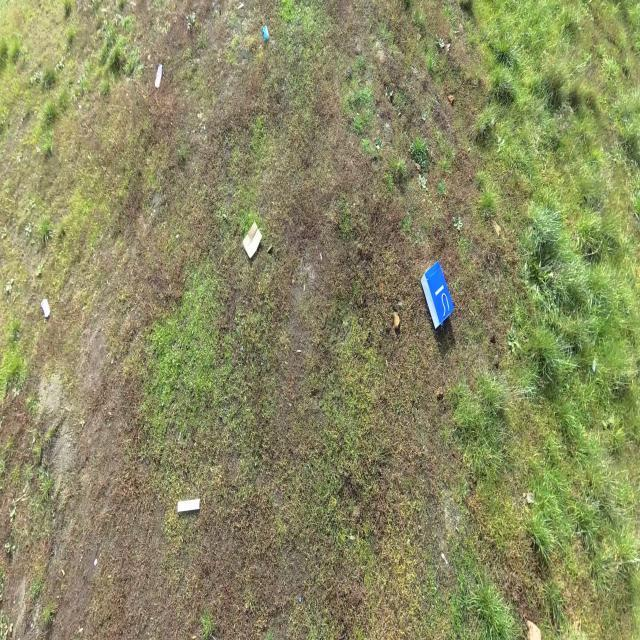rubbish: (420, 259, 455, 330), (241, 219, 263, 259), (525, 619, 541, 640), (177, 498, 200, 511), (40, 298, 52, 318), (154, 64, 163, 90), (261, 25, 271, 42), (93, 557, 97, 567), (441, 551, 445, 559)
